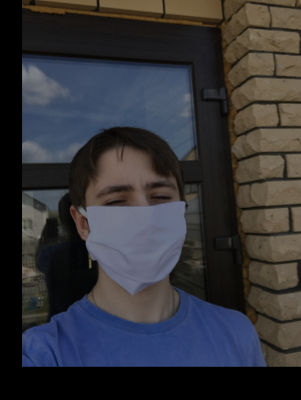with_mask: (79, 164, 186, 296)
